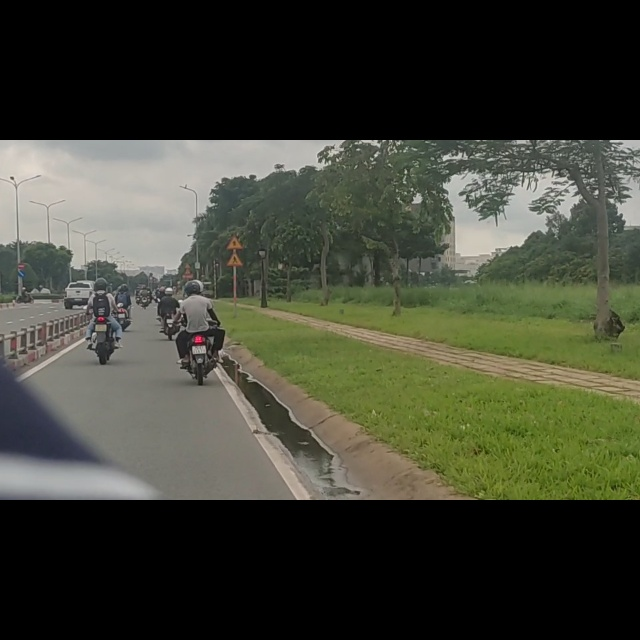bien_nguy_hiem: (226, 171, 245, 196), (226, 200, 244, 225), (17, 231, 25, 244), (17, 218, 25, 230)
